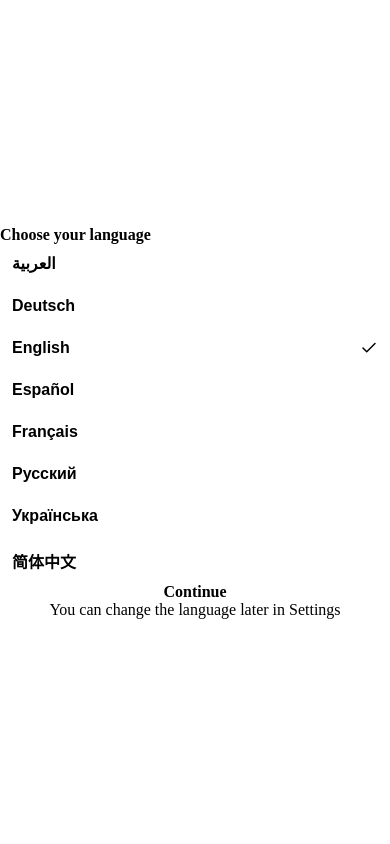
Test: LanguagePickScreen › changes i18n language on row tap before confirm
The width and height of the screenshot is (390, 844).
Click the button "Русский".
click(44, 473)  # box [0, 454, 389, 492]
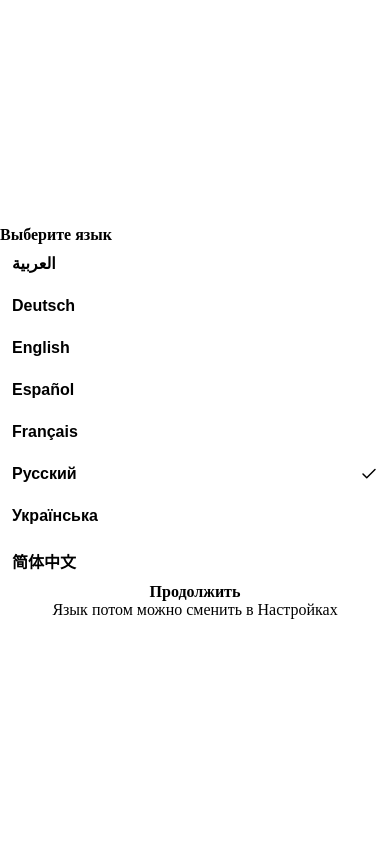
Expected: the heading "Выберите язык" is shown, [0, 226, 112, 242]
Expected: the button "Продолжить" is shown, [0, 582, 389, 600]
